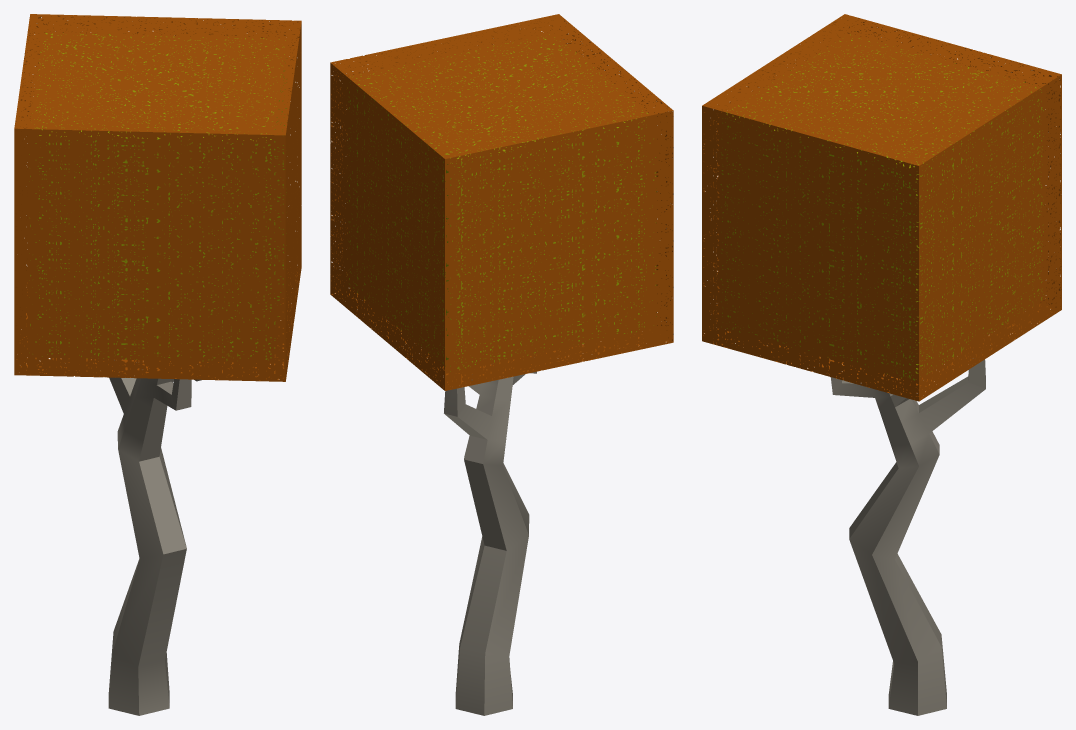
File: tree_05.fbx
The picture shows the model from 3 angles, left to right: view 1: azimuth 30°, elevation 25°; view 2: azimuth 150°, elevation 25°; view 3: azimuth 270°, elevation 25°; orthographic projection. The views are drawn at different scales.
Parts seen in each view (by area): view 1: tree_05; view 2: tree_05; view 3: tree_05.
Boxes of the visible parts, box(x1,y1,x2,y2) form: tree_05: box(14, 14, 301, 715); tree_05: box(330, 14, 673, 715); tree_05: box(702, 14, 1061, 715).
Bounding box in the file's own units: 149 × 280 × 149.
